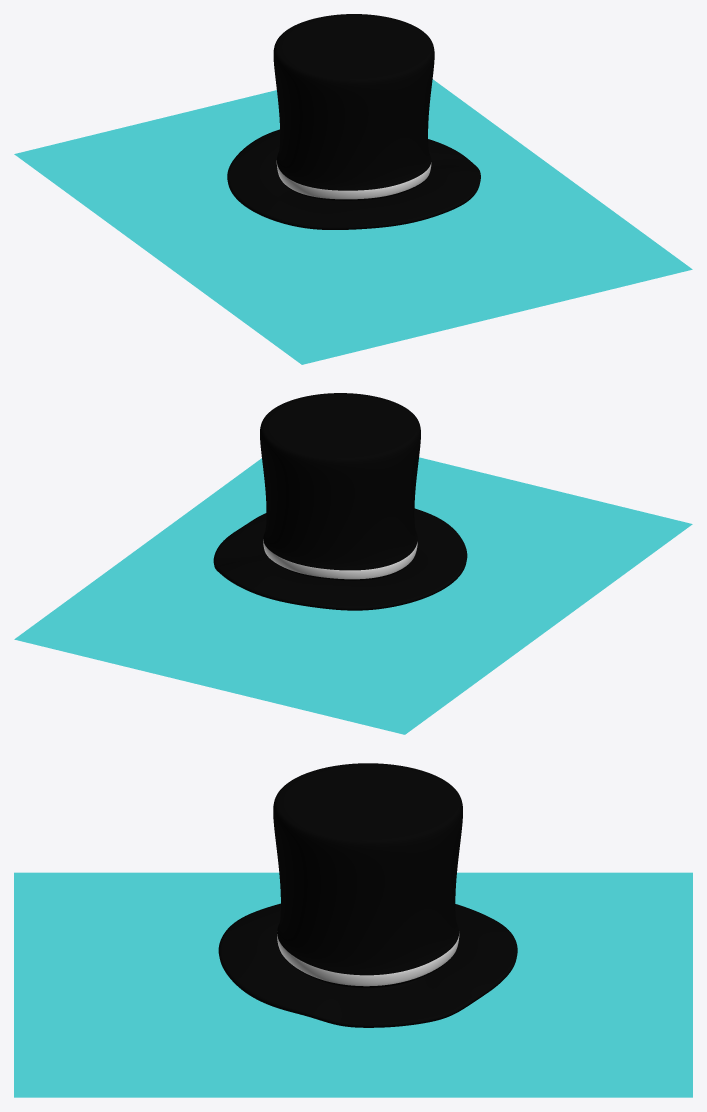
The model's file is Top Hat.fbx.
3 views of the same model, one above another, from view 1: azimuth 30°, elevation 25°; view 2: azimuth 150°, elevation 25°; view 3: azimuth 270°, elevation 25° (orthographic). The views are drawn at different scales.
Visible parts, largest first — view 1: Plane, Cylinder; view 2: Plane, Cylinder; view 3: Plane, Cylinder.
Boxes of the visible parts, x1,y1,x2,y2 form: Plane: (14, 79, 692, 364); Cylinder: (227, 14, 480, 229); Plane: (14, 457, 692, 734); Cylinder: (213, 393, 467, 610); Plane: (14, 872, 692, 1097); Cylinder: (218, 763, 517, 1027).
Bounding box in the file's own units: 613 × 239 × 782.
